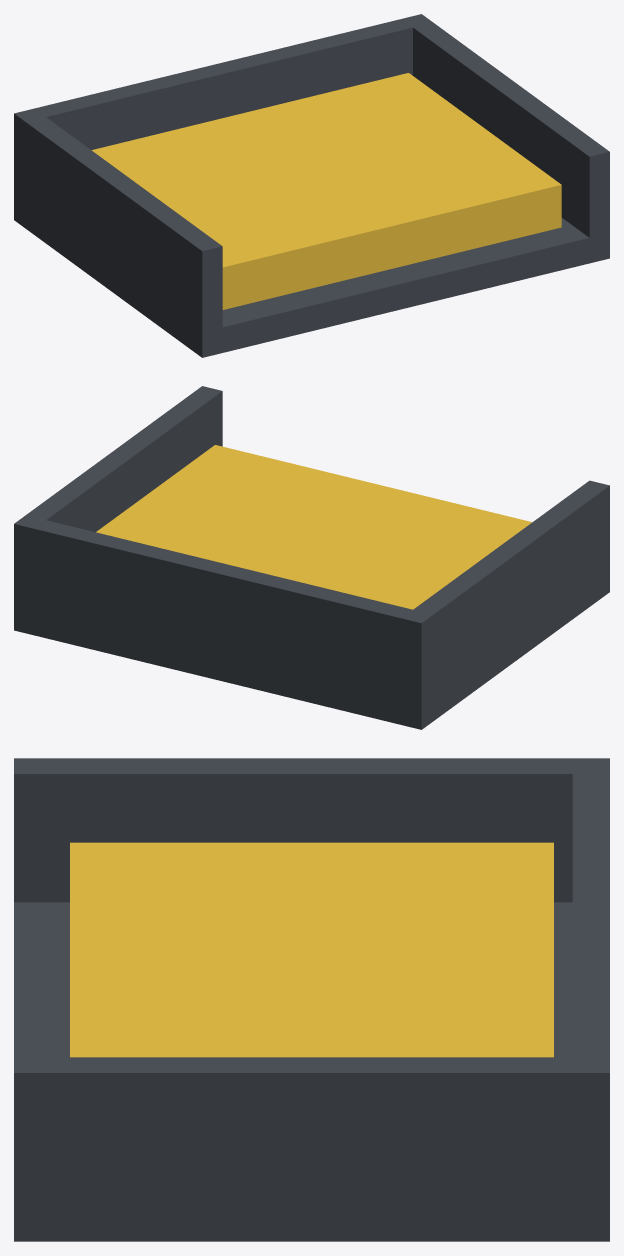
File: prop_delegation_p1.glb
3 views of the same model, one above another, from view 1: azimuth 30°, elevation 25°; view 2: azimuth 150°, elevation 25°; view 3: azimuth 270°, elevation 25° (orthographic). The views are drawn at different scales.
Visible parts, largest first — view 1: prop_delegation_p1_mesh; view 2: prop_delegation_p1_mesh; view 3: prop_delegation_p1_mesh.
Part boxes in pixels (x1=…): prop_delegation_p1_mesh: x1=14, y1=14, x2=609, y2=357; prop_delegation_p1_mesh: x1=14, y1=386, x2=609, y2=729; prop_delegation_p1_mesh: x1=14, y1=758, x2=609, y2=1241.
Size of the model in its own units: 0.2 by 0.05 by 0.16.
